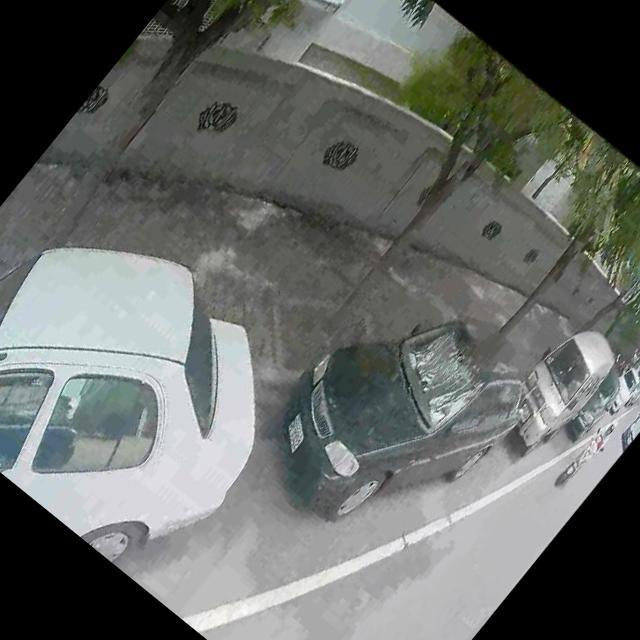person: (587, 419, 619, 454)
